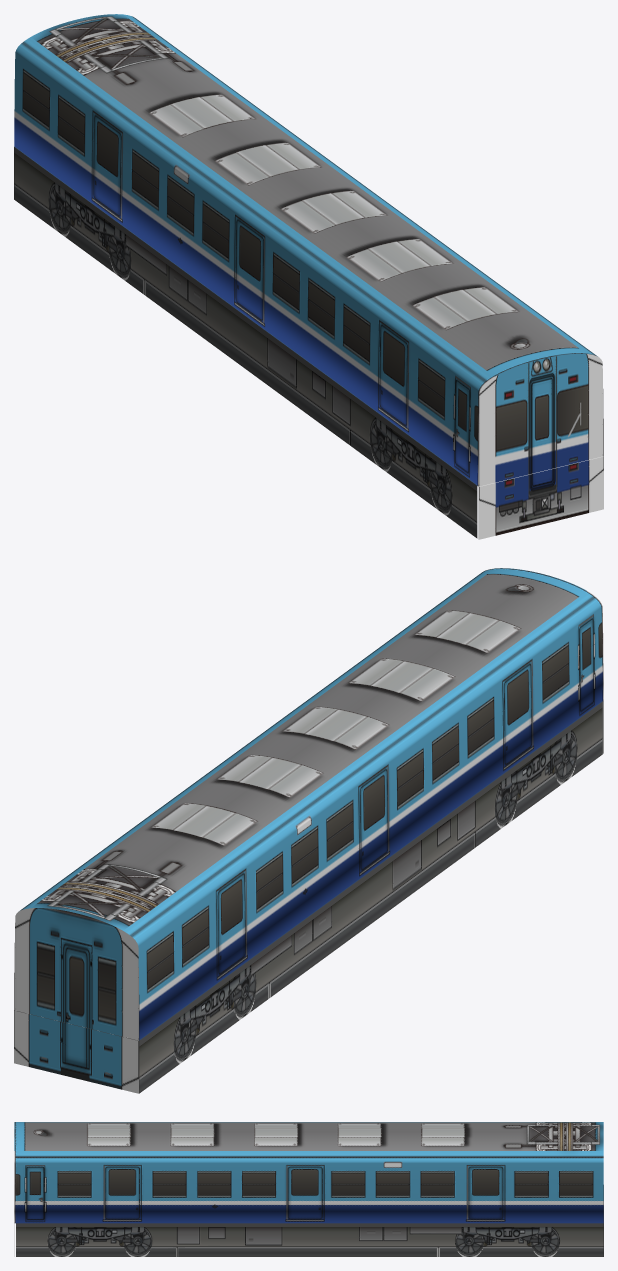
The model's file is car1.glb.
The picture shows the model from 3 angles, top to bottom: view 1: azimuth 30°, elevation 25°; view 2: azimuth 150°, elevation 25°; view 3: azimuth 270°, elevation 25°; orthographic projection. The views are drawn at different scales.
Parts seen in each view (by area): view 1: tyousi-3000-car1; view 2: tyousi-3000-car1; view 3: tyousi-3000-car1.
Boxes of the visible parts, bbox=[...] form: tyousi-3000-car1: bbox=[14, 14, 603, 539]; tyousi-3000-car1: bbox=[14, 568, 603, 1093]; tyousi-3000-car1: bbox=[14, 1122, 603, 1256].
Size of the model in its own units: 2.8 by 3.53 by 18.03.
Materials: 9 (8 with a texture image).
